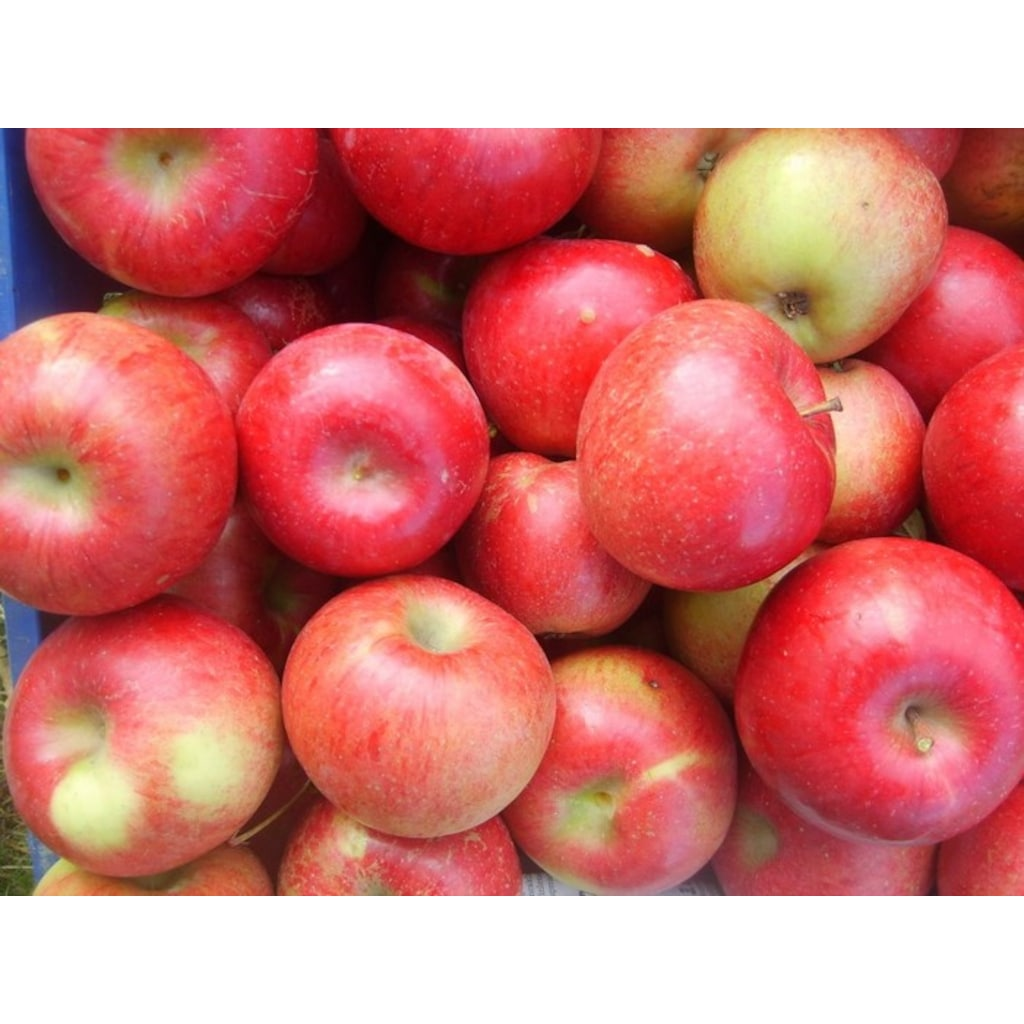apple: (741, 528, 1024, 859)
